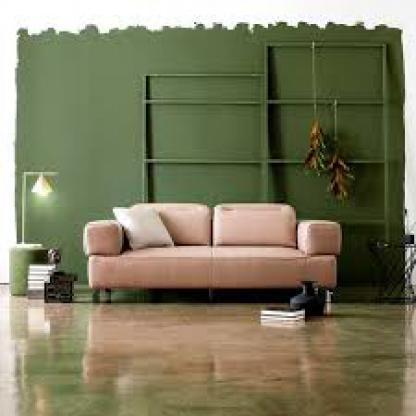sofa: (80, 198, 340, 314)
